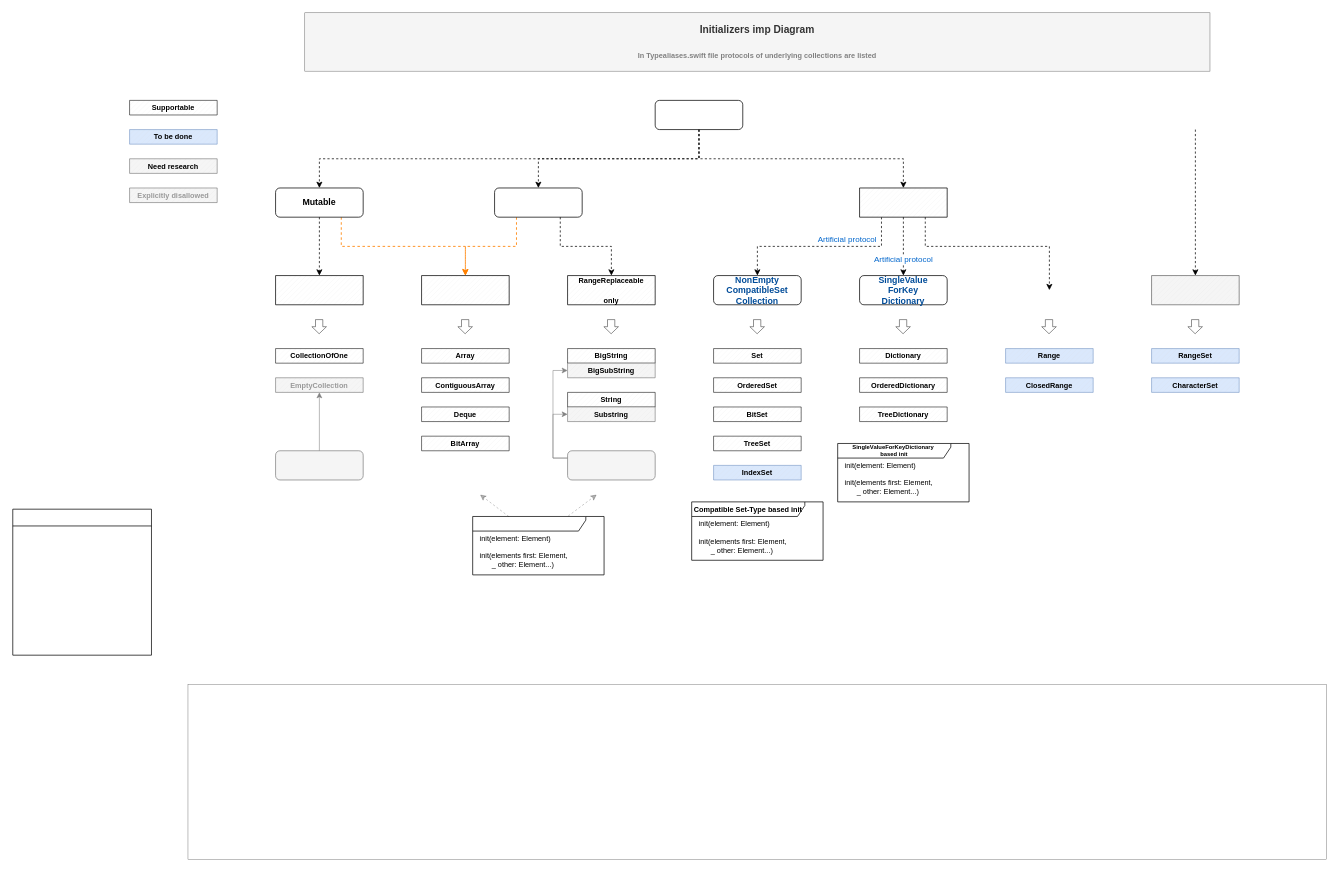
This 1340x872 diagram has some shape labels left out. The shapes that lost their labels are listed below. From the top down, each one's box as (x1, y1, x2, y2) in pixels, then its label:
(654, 100, 743, 130): Collection
(494, 187, 582, 217): RangeReplaceable
(859, 187, 947, 217): No common builtin protocol to init generically
(275, 275, 363, 305): Mutable only
(421, 275, 509, 305): RangeReplaceable + Mutable
(1151, 275, 1239, 305): no Collection conformance
(275, 450, 363, 480): NonEmpty Disallowed
(567, 450, 655, 480): head-tail init Disallowed
(472, 516, 604, 575): RangeReplaceable based init
(12, 508, 151, 655): Vertical Container
